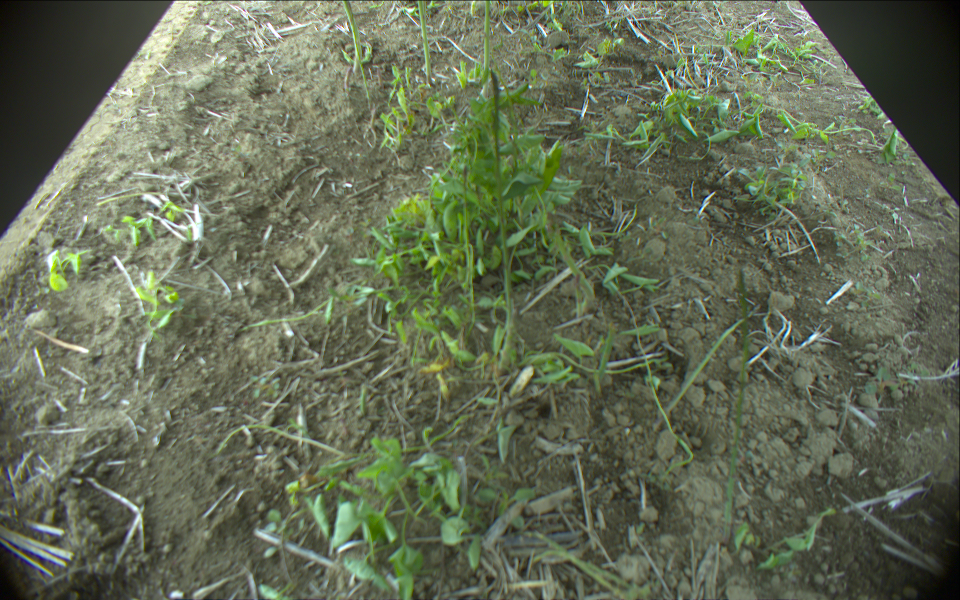aspa: (488, 70, 523, 363), (723, 268, 752, 528), (459, 165, 474, 292), (338, 1, 365, 71), (464, 242, 480, 340), (414, 1, 433, 83), (479, 1, 491, 82), (599, 321, 615, 380)
